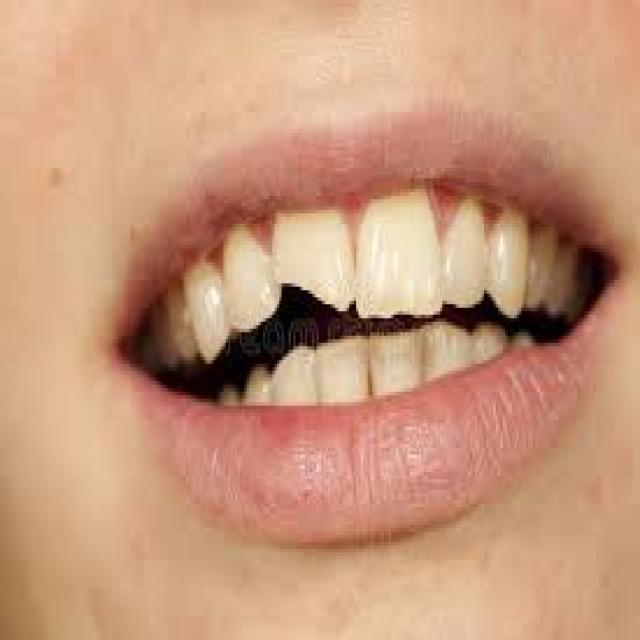tooth: (358, 206, 438, 312), (272, 214, 352, 298), (224, 234, 268, 322), (491, 214, 528, 312), (447, 206, 479, 301), (370, 332, 421, 388), (317, 339, 363, 399), (184, 266, 219, 343), (275, 346, 314, 402), (158, 294, 186, 356), (430, 325, 468, 364), (244, 364, 275, 409), (538, 242, 556, 304), (477, 322, 505, 360), (565, 252, 575, 304), (219, 385, 244, 402), (516, 329, 530, 346)
